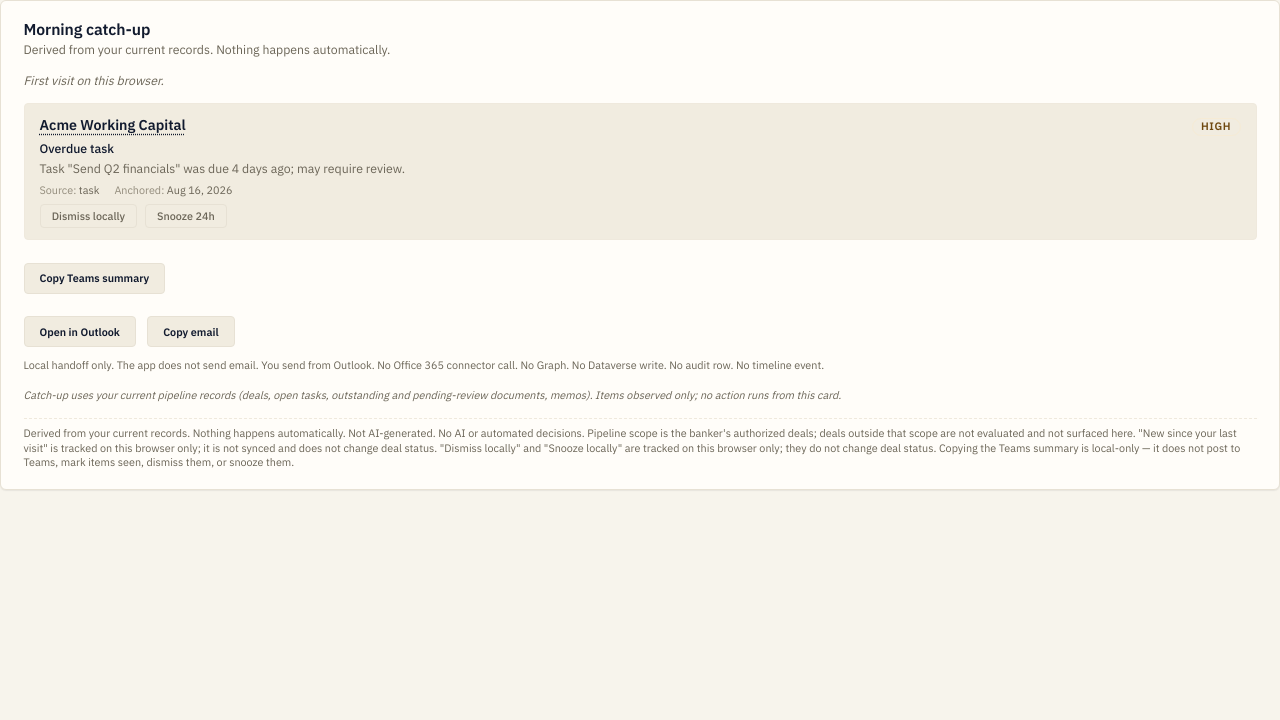
Scenario: BankerMorningCatchUp — Phase 89 › Phase 98 — Copy Teams summary › shows "Clipboard unavailable. Select and copy manually." alert when clipboard is missing
This screenshot has width=1280, height=720.
Click the button with aria-label "Copy Teams summary for banker morning catch-up".
click(94, 278)  # box [24,263,165,294]
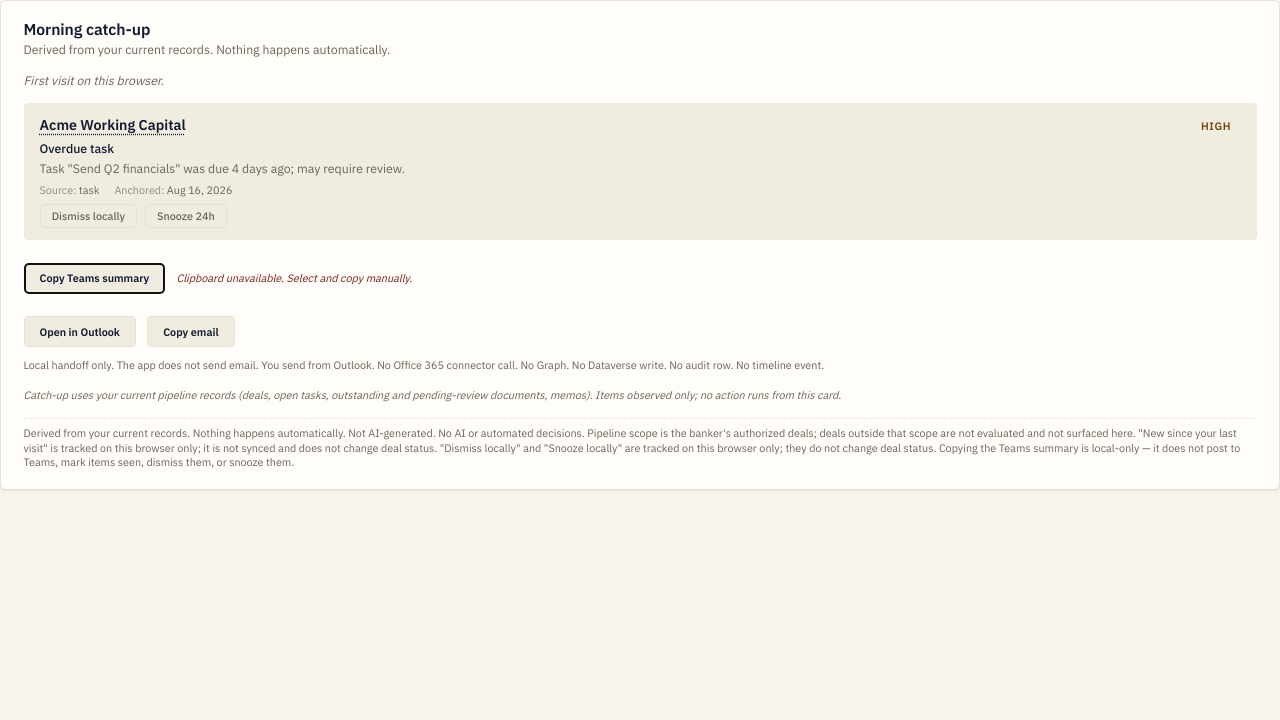
Result: the message reads "Clipboard unavailable. Select and copy manually." at [176,271,412,285]
